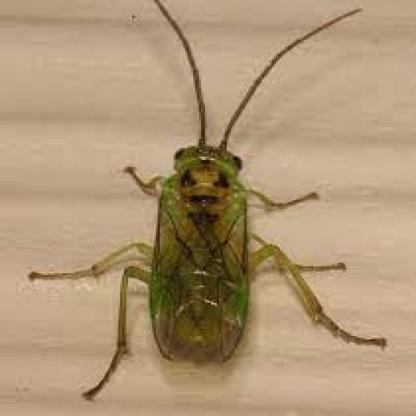sawfly: (40, 3, 404, 411)
